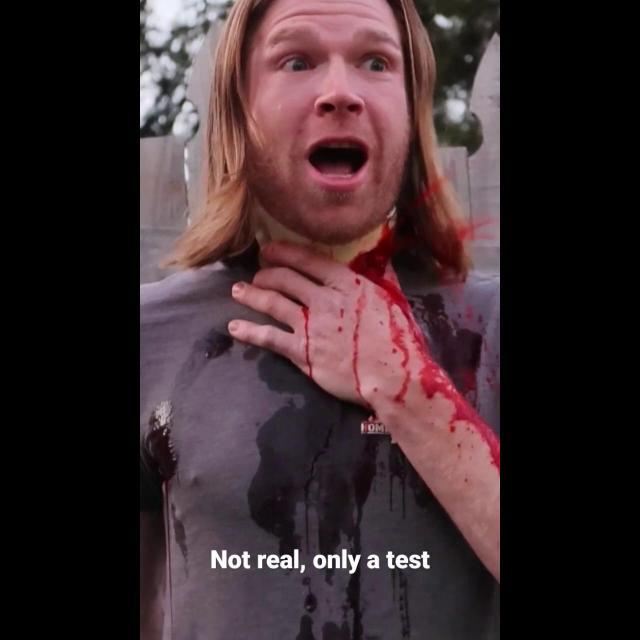blood: (345, 179, 500, 470), (302, 306, 316, 382)
